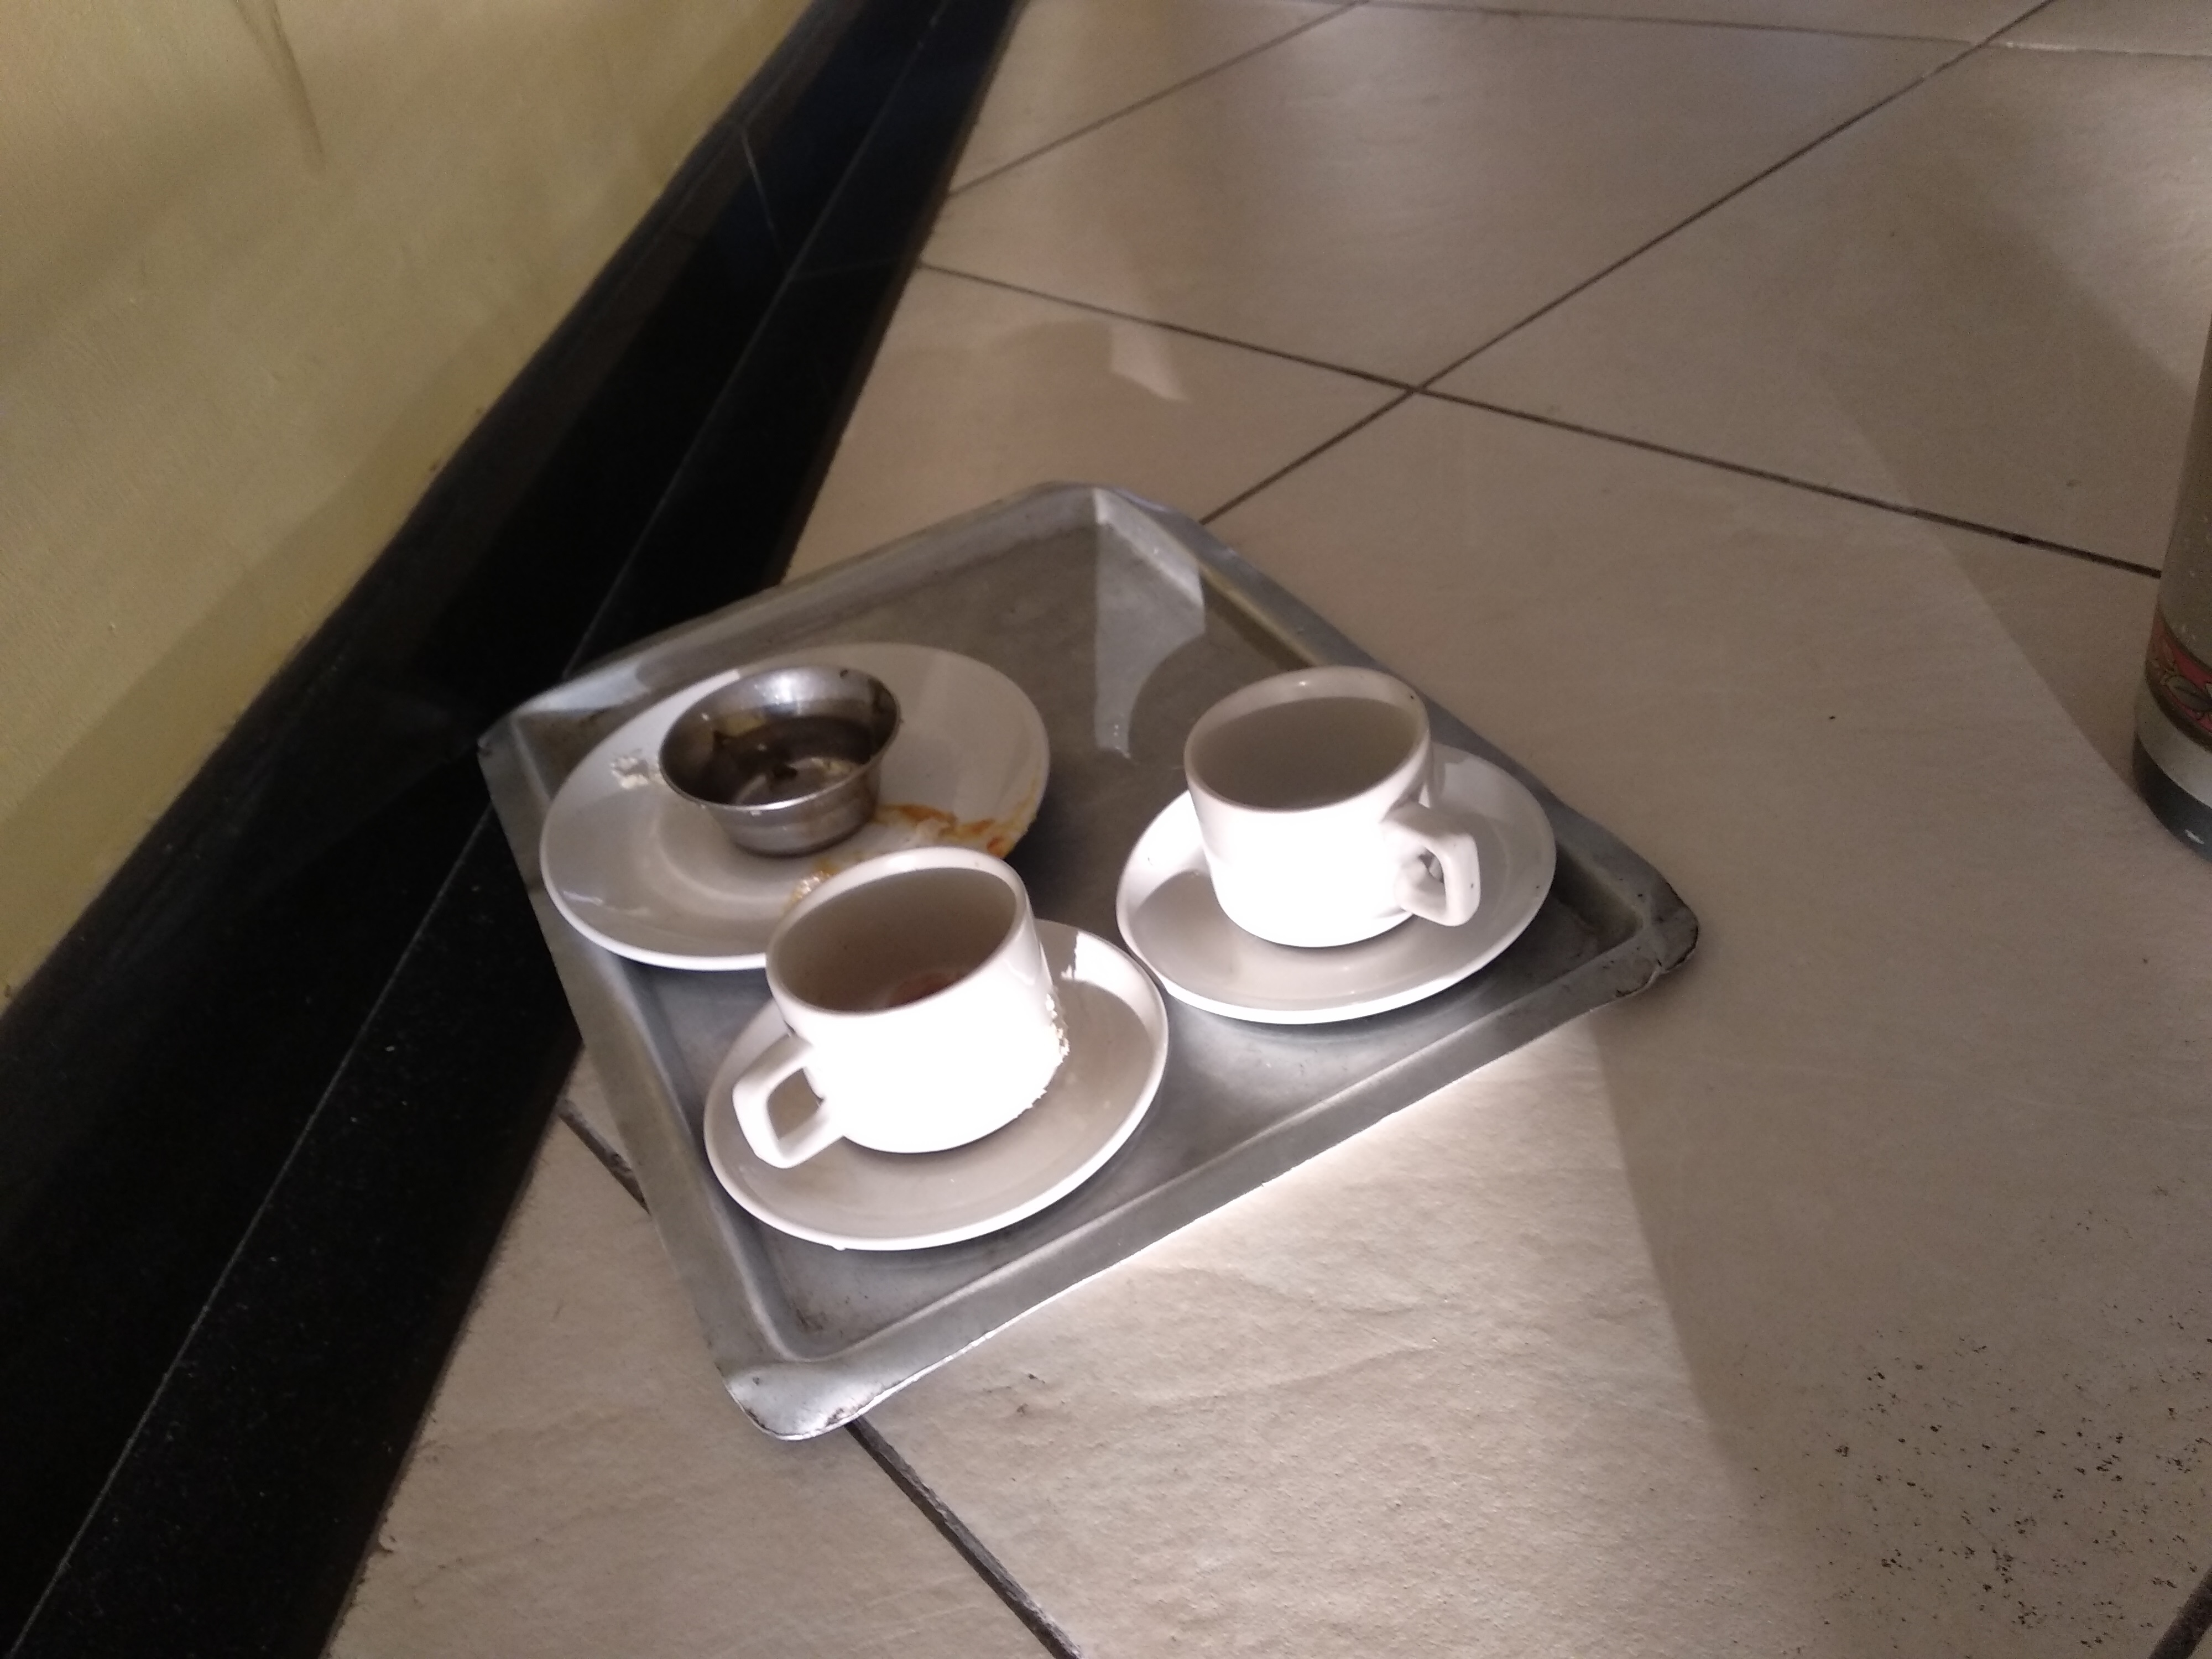CUP: (725, 835, 1118, 1220), (1160, 648, 1491, 955), (641, 636, 911, 842)
